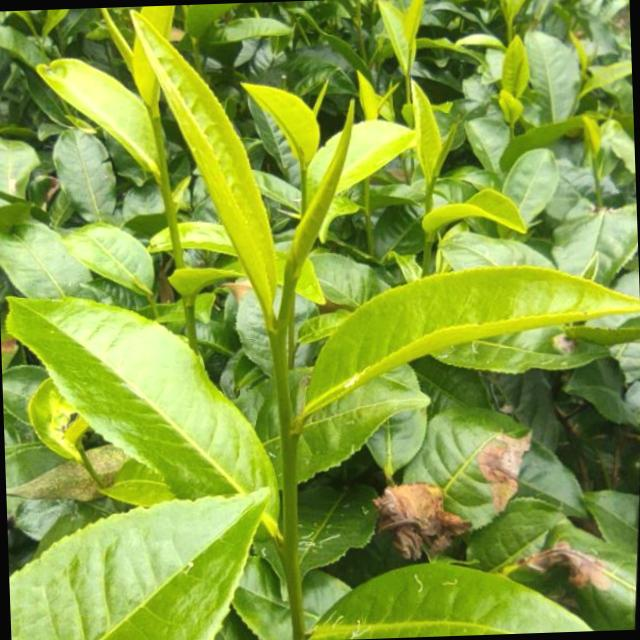Stem: (271, 331, 288, 385), (151, 116, 163, 146), (425, 190, 432, 210), (301, 171, 306, 189), (406, 77, 410, 90)
